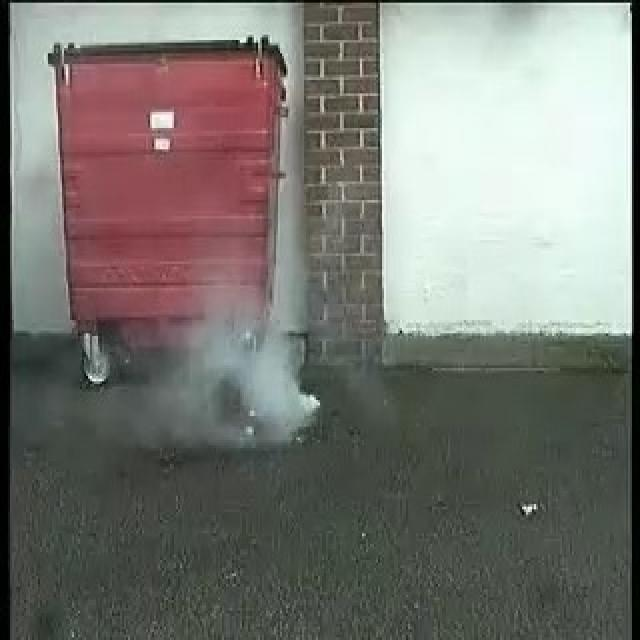smoke: (143, 326, 321, 448)
